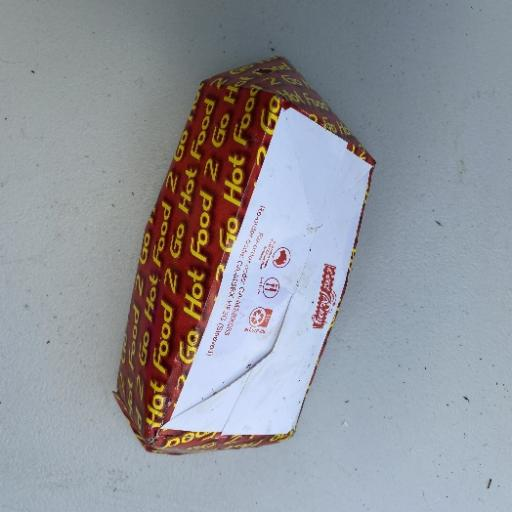Cardboard: (112, 54, 378, 455)
